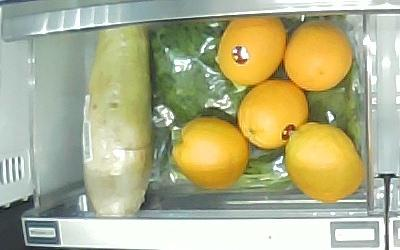orange: (286, 122, 363, 203), (172, 117, 250, 189), (238, 79, 309, 148), (217, 17, 286, 85), (285, 21, 352, 91)
